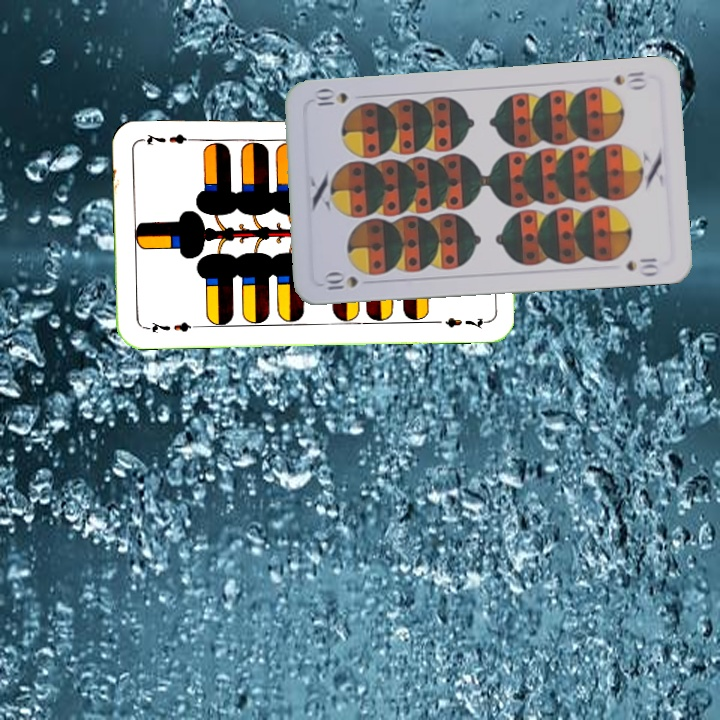E7: (140, 318, 199, 337)
S10: (610, 67, 649, 92), (320, 270, 360, 294)
